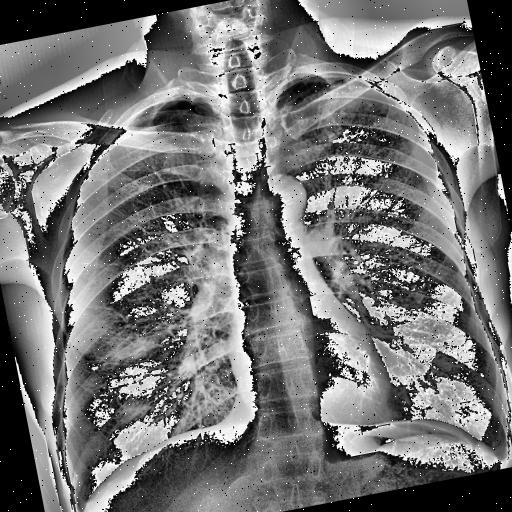0- Aortic enlargement: (246, 170, 312, 230)
10- Pleural effusion: (487, 448, 512, 468), (494, 449, 510, 468), (75, 504, 86, 512)
11- Pleural thickening: (296, 60, 374, 100), (286, 66, 358, 94), (302, 60, 361, 91), (154, 94, 201, 112), (487, 448, 512, 468), (494, 449, 510, 468), (75, 504, 86, 512)
13- Pulmonary fibrosis: (284, 83, 386, 170), (84, 170, 109, 185), (86, 172, 110, 185)
7- Lung Opacity: (304, 88, 404, 168)
